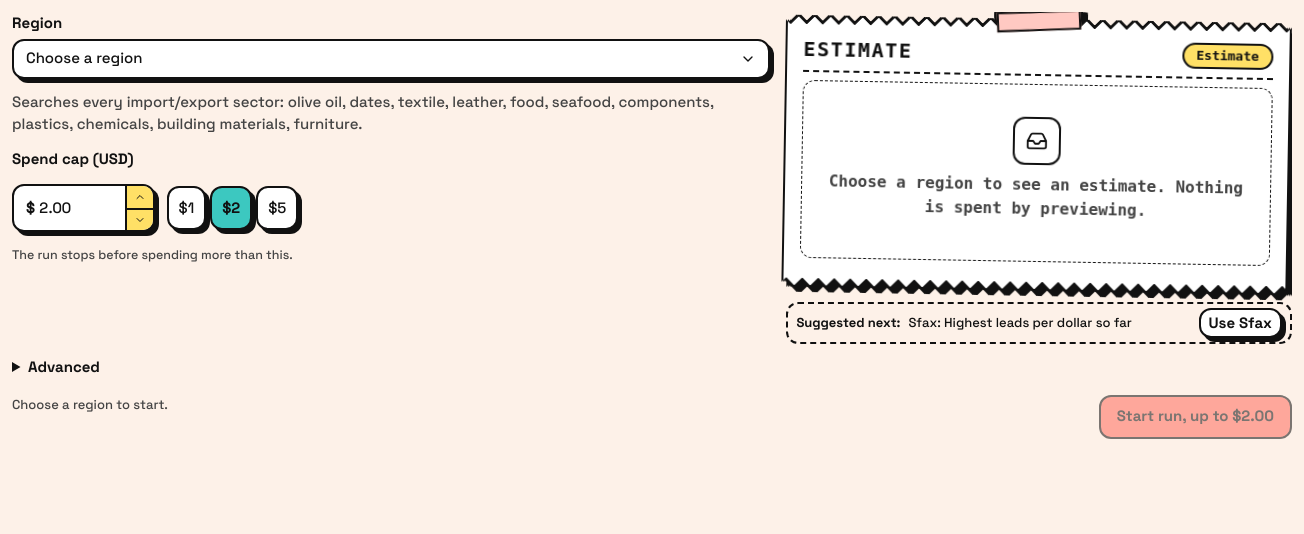
Test: Start a run: spend cap › says why Start is off when the cap is empty or zero
This screenshot has width=1304, height=534.
Click the dropdown labelled "region" at (84, 58), box [12,38,770,78]
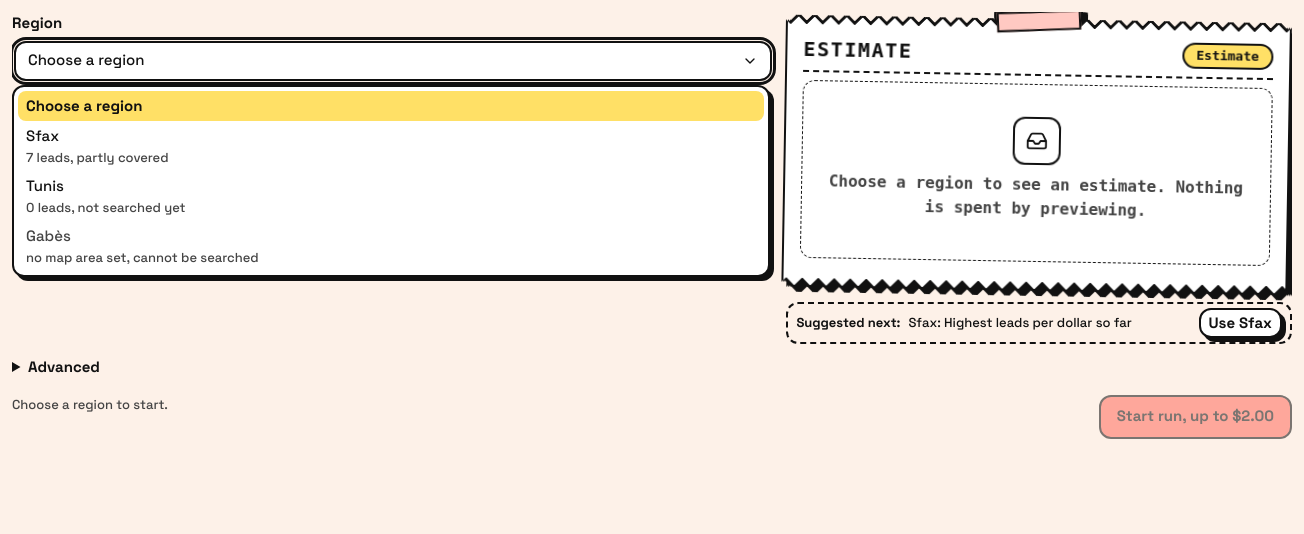
Click the option "Sfax 7 leads, partly covered" at (97, 146), box [26,126,168,166]
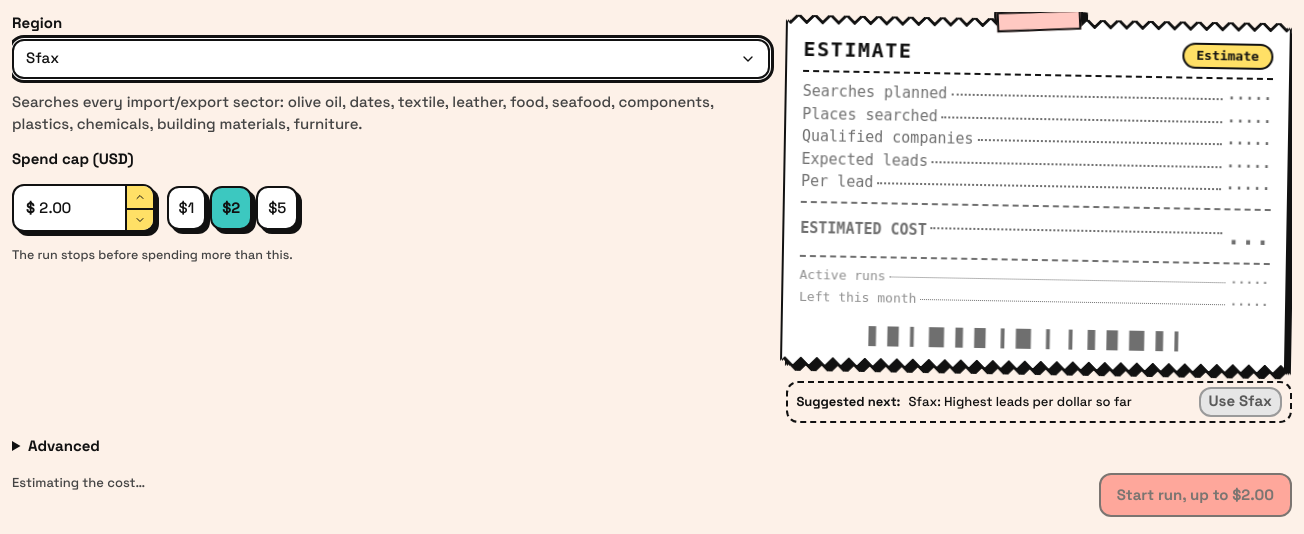
Clear the number field labelled "Spend cap (USD)" at (80, 208), box [35,186,124,230]
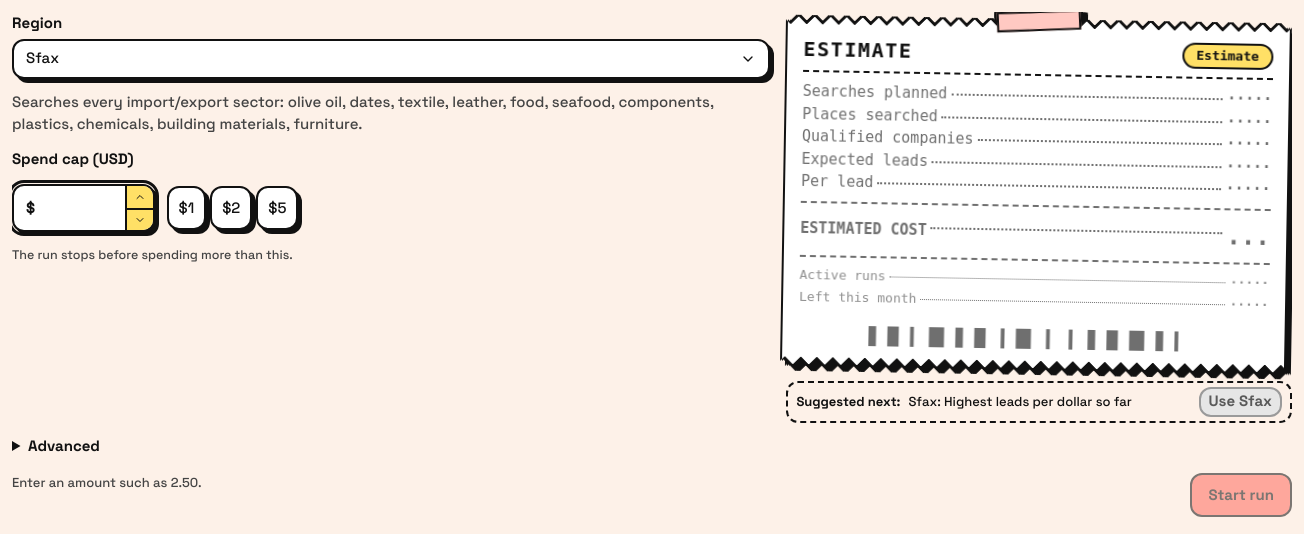
Expected: the button "Start run" is shown, [1190,473,1292,517]
Expected: the text "Enter an amount such as 2.50." is shown, [12,474,202,491]
Type "0" into the number field labelled "Spend cap (USD)" at (80, 208), box [35,186,124,230]
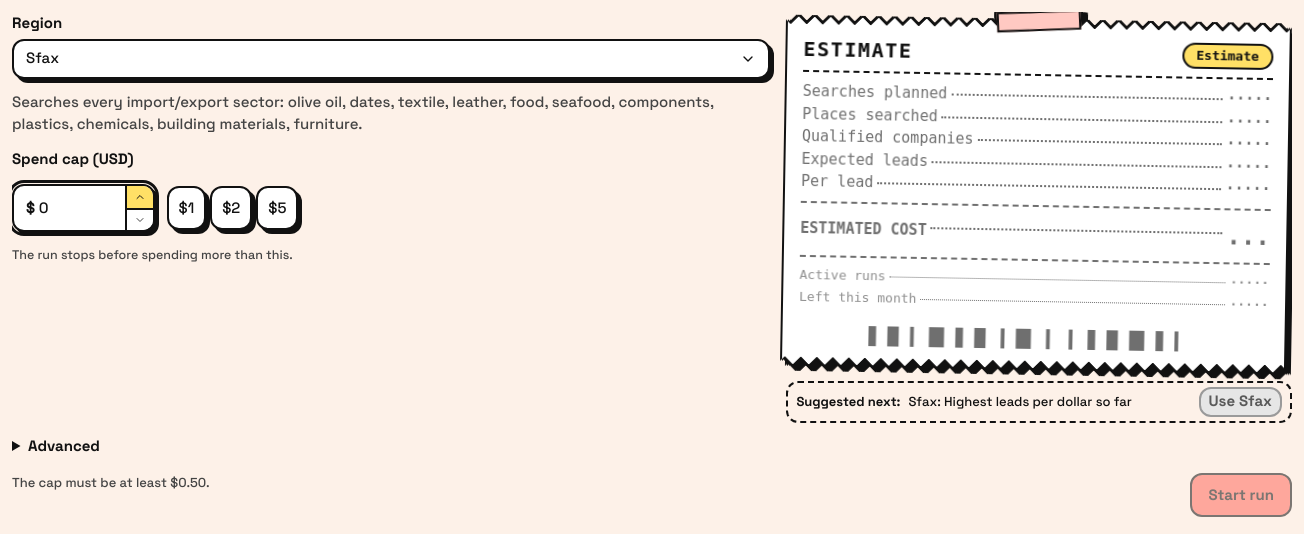
Press Tab
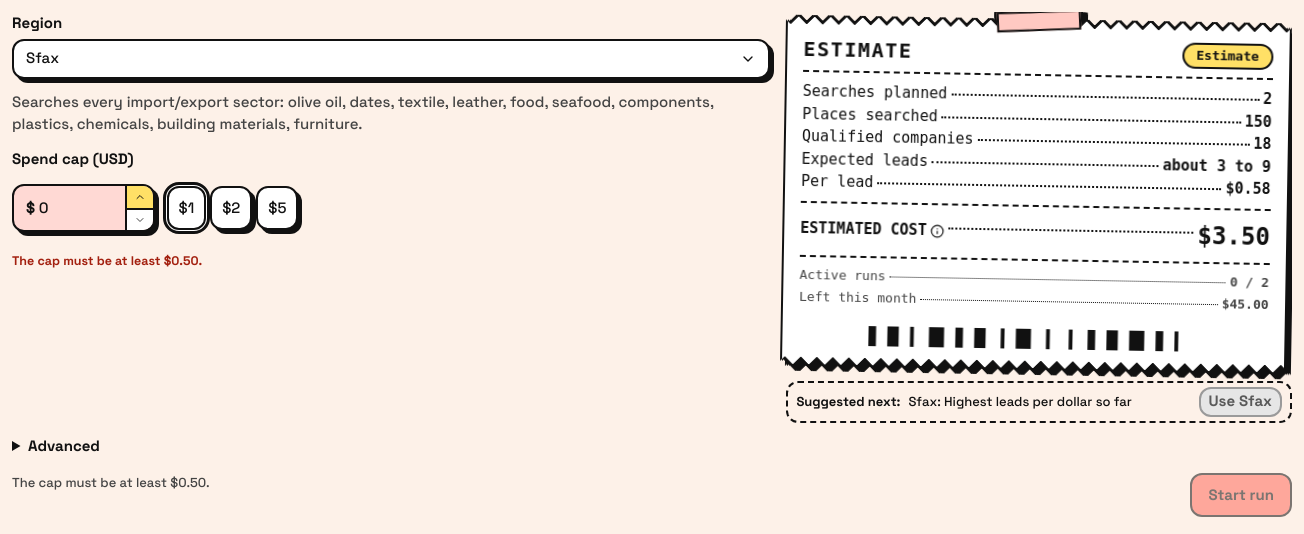
Expected: the text "The cap must be at least $0.50." is shown 2 times, [12,253,202,269]; [12,474,210,491]
